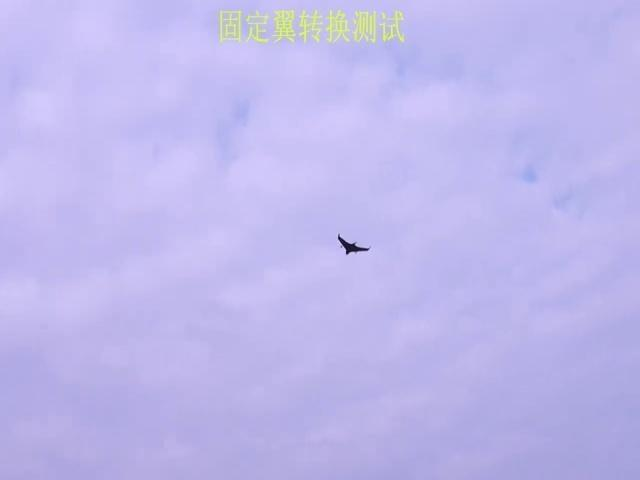Airplane: (337, 233, 371, 255)
